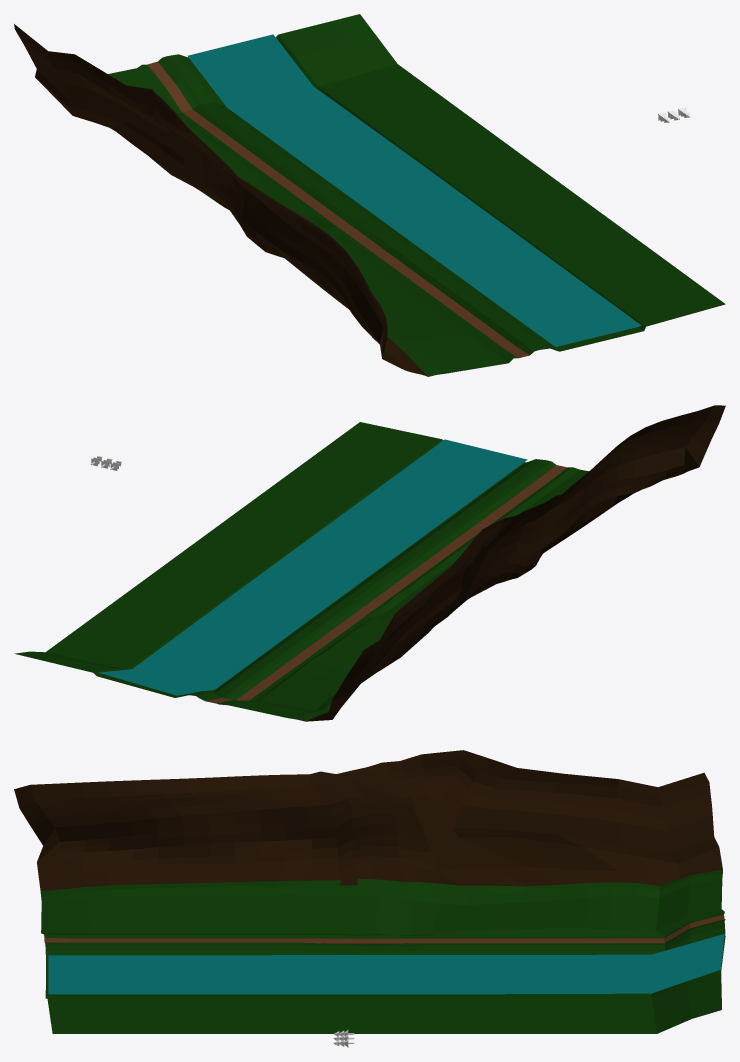
File: fase_1 1.fbx
3 views of the same model, one above another, from view 1: azimuth 30°, elevation 25°; view 2: azimuth 150°, elevation 25°; view 3: azimuth 270°, elevation 25° (orthographic). The views are drawn at different scales.
Visible parts, largest first — view 1: Plane.001, Plane.002; view 2: Plane.001, Plane.002; view 3: Plane.001, Plane.002.
Boxes of the visible parts, box(x1,y1,x2,y2) form: Plane.001: box(14, 14, 725, 376); Plane.002: box(187, 34, 641, 346); Plane.001: box(14, 405, 725, 721); Plane.002: box(99, 439, 527, 695); Plane.001: box(14, 750, 725, 1033); Plane.002: box(48, 934, 724, 994).
Size of the model in its own units: 80524 by 22493 by 112158.
